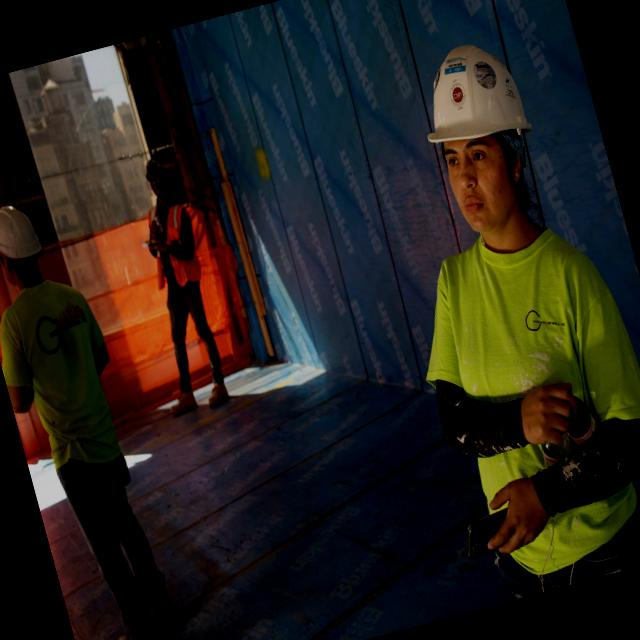helmet: (408, 33, 538, 162), (0, 189, 48, 275)
no-goggles: (435, 120, 528, 189)
no-vest: (423, 202, 640, 571), (0, 271, 146, 484)
vest: (144, 196, 208, 290)
